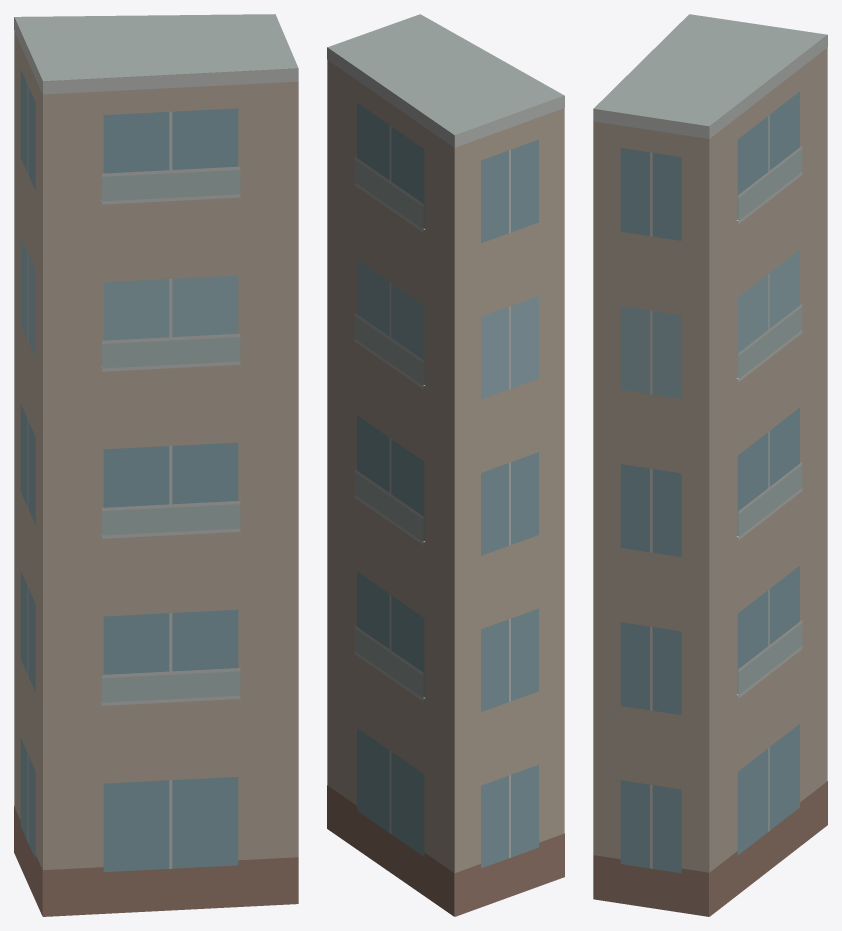
The model's file is survey-upis-32624125.glb.
3 views of the same model, side by side, from view 1: azimuth 30°, elevation 25°; view 2: azimuth 150°, elevation 25°; view 3: azimuth 270°, elevation 25° (orthographic). The views are drawn at different scales.
Visible parts, largest first — view 1: survey-upis-32624125.tmp; view 2: survey-upis-32624125.tmp; view 3: survey-upis-32624125.tmp.
Boxes of the visible parts, <box> form: survey-upis-32624125.tmp: <box>14,14,298,916</box>; survey-upis-32624125.tmp: <box>327,14,564,916</box>; survey-upis-32624125.tmp: <box>593,14,827,916</box>.
Bounding box in the file's own units: 4.66 × 15.25 × 4.1.
